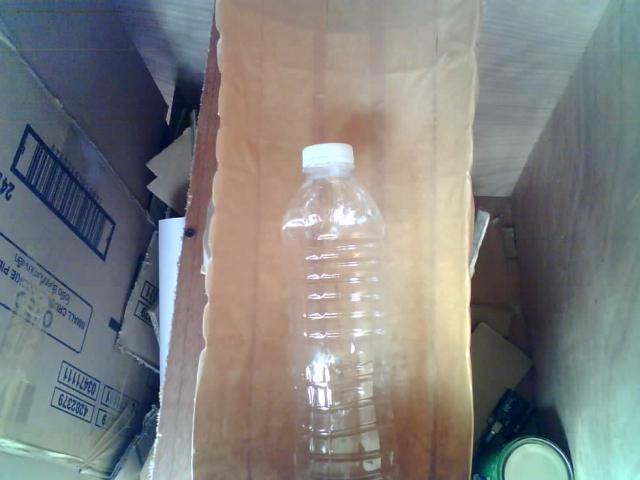small_bottle: (261, 133, 419, 480)
